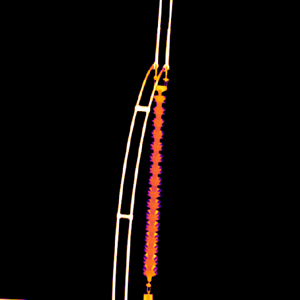insulator: (142, 82, 167, 280)
